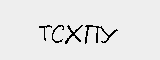П: (84, 22, 99, 47)
С: (51, 20, 64, 46)
Т: (38, 19, 52, 46)
У: (99, 22, 117, 46)
Х: (61, 20, 84, 51)
